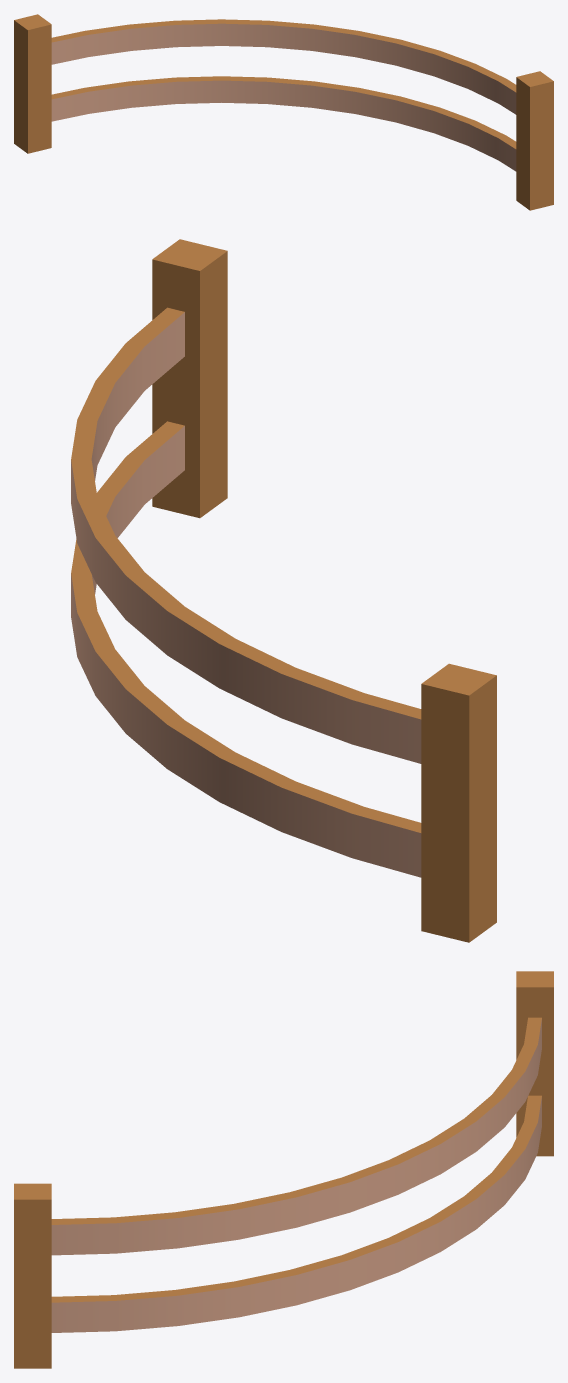
File: fence_bend.glb
3 views of the same model, one above another, from view 1: azimuth 30°, elevation 25°; view 2: azimuth 150°, elevation 25°; view 3: azimuth 270°, elevation 25° (orthographic). The views are drawn at different scales.
Parts seen in each view (by area): view 1: fence_bend; view 2: fence_bend; view 3: fence_bend.
Boxes of the visible parts, <box> form: fence_bend: <box>14,14,553,210</box>; fence_bend: <box>71,239,496,942</box>; fence_bend: <box>14,971,553,1368</box>.
Size of the model in its own units: 1 by 0.345 by 1.
